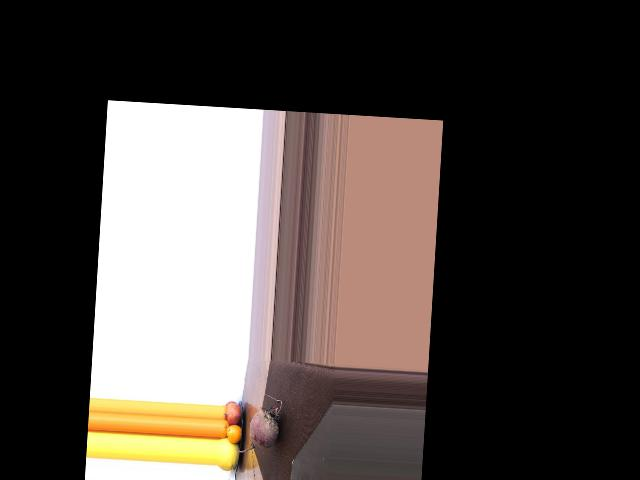beet: (234, 392, 282, 455)
